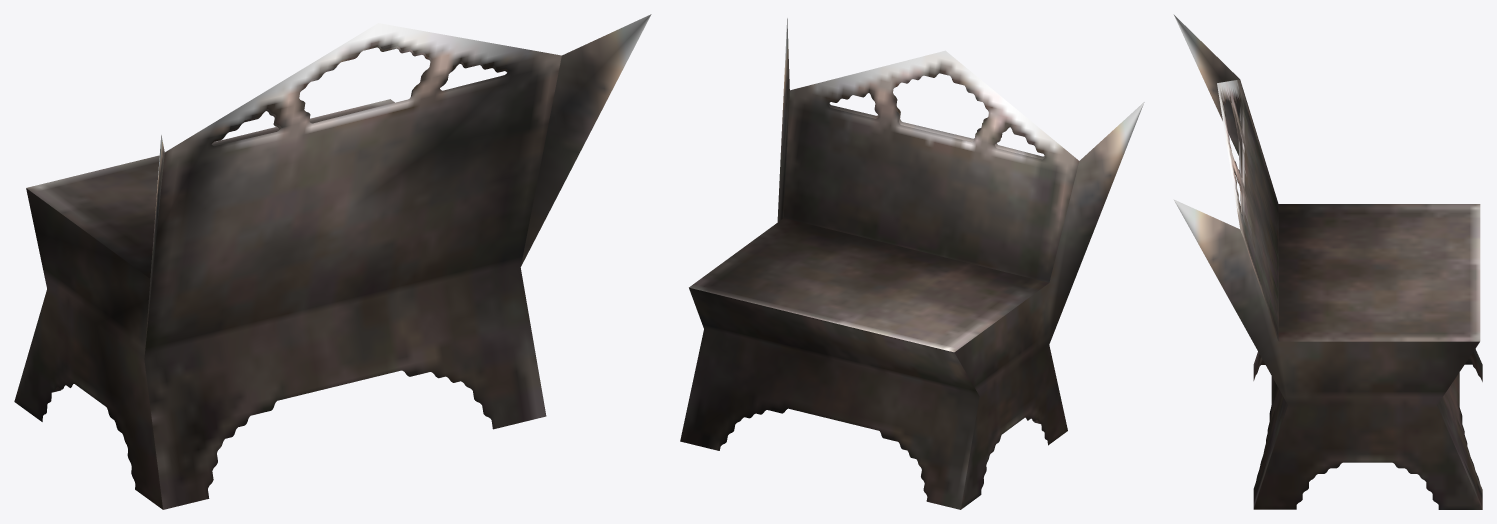
File: stst74.dae
The picture shows the model from 3 angles, left to right: view 1: azimuth 30°, elevation 25°; view 2: azimuth 150°, elevation 25°; view 3: azimuth 270°, elevation 25°; orthographic projection. The views are drawn at different scales.
Parts seen in each view (by area): view 1: fbench; view 2: fbench; view 3: fbench.
Part boxes in pixels (left/top/right/bottom): fbench: left=14, top=14, right=651, bottom=509; fbench: left=680, top=18, right=1144, bottom=509; fbench: left=1173, top=14, right=1482, bottom=509.
Size of the model in its own units: 0.9691 by 0.6837 by 0.864.
1 material, 1 textured.
